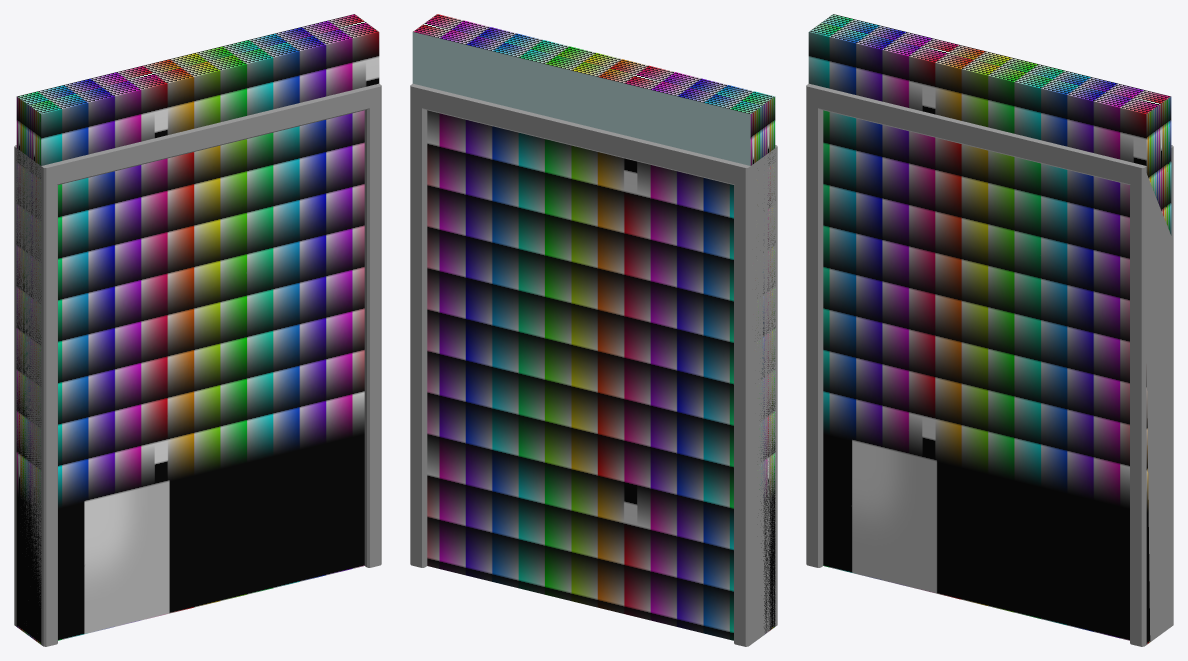
File: interiorGlassWall_line_2.fbx
3 renders of one model, left to right at view 1: azimuth 30°, elevation 25°; view 2: azimuth 150°, elevation 25°; view 3: azimuth 330°, elevation 25°, orthographic.
Parts seen in each view (by area): view 1: trigger, wall; view 2: trigger, wall; view 3: trigger, wall.
Boxes of the visible parts, x1,y1,x2,y2 form: trigger: (16, 14, 379, 644); wall: (14, 83, 381, 646); trigger: (413, 14, 775, 640); wall: (410, 32, 777, 646); trigger: (808, 14, 1171, 644); wall: (806, 83, 1173, 646).
Size of what is drawn, in the model's own units: 200 by 300 by 31.96.
